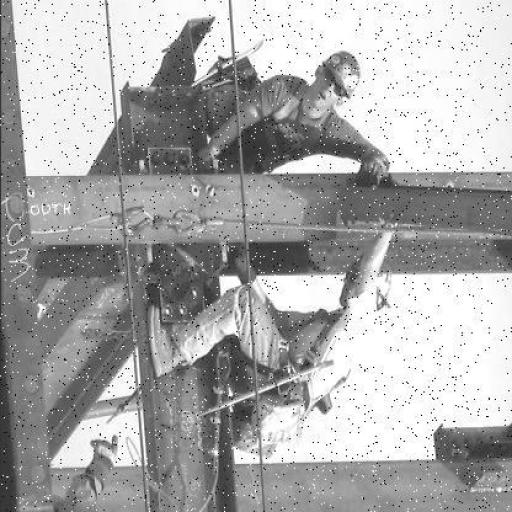person: (143, 238, 400, 466), (182, 43, 404, 190)
safety_shoe: (148, 298, 182, 375)
